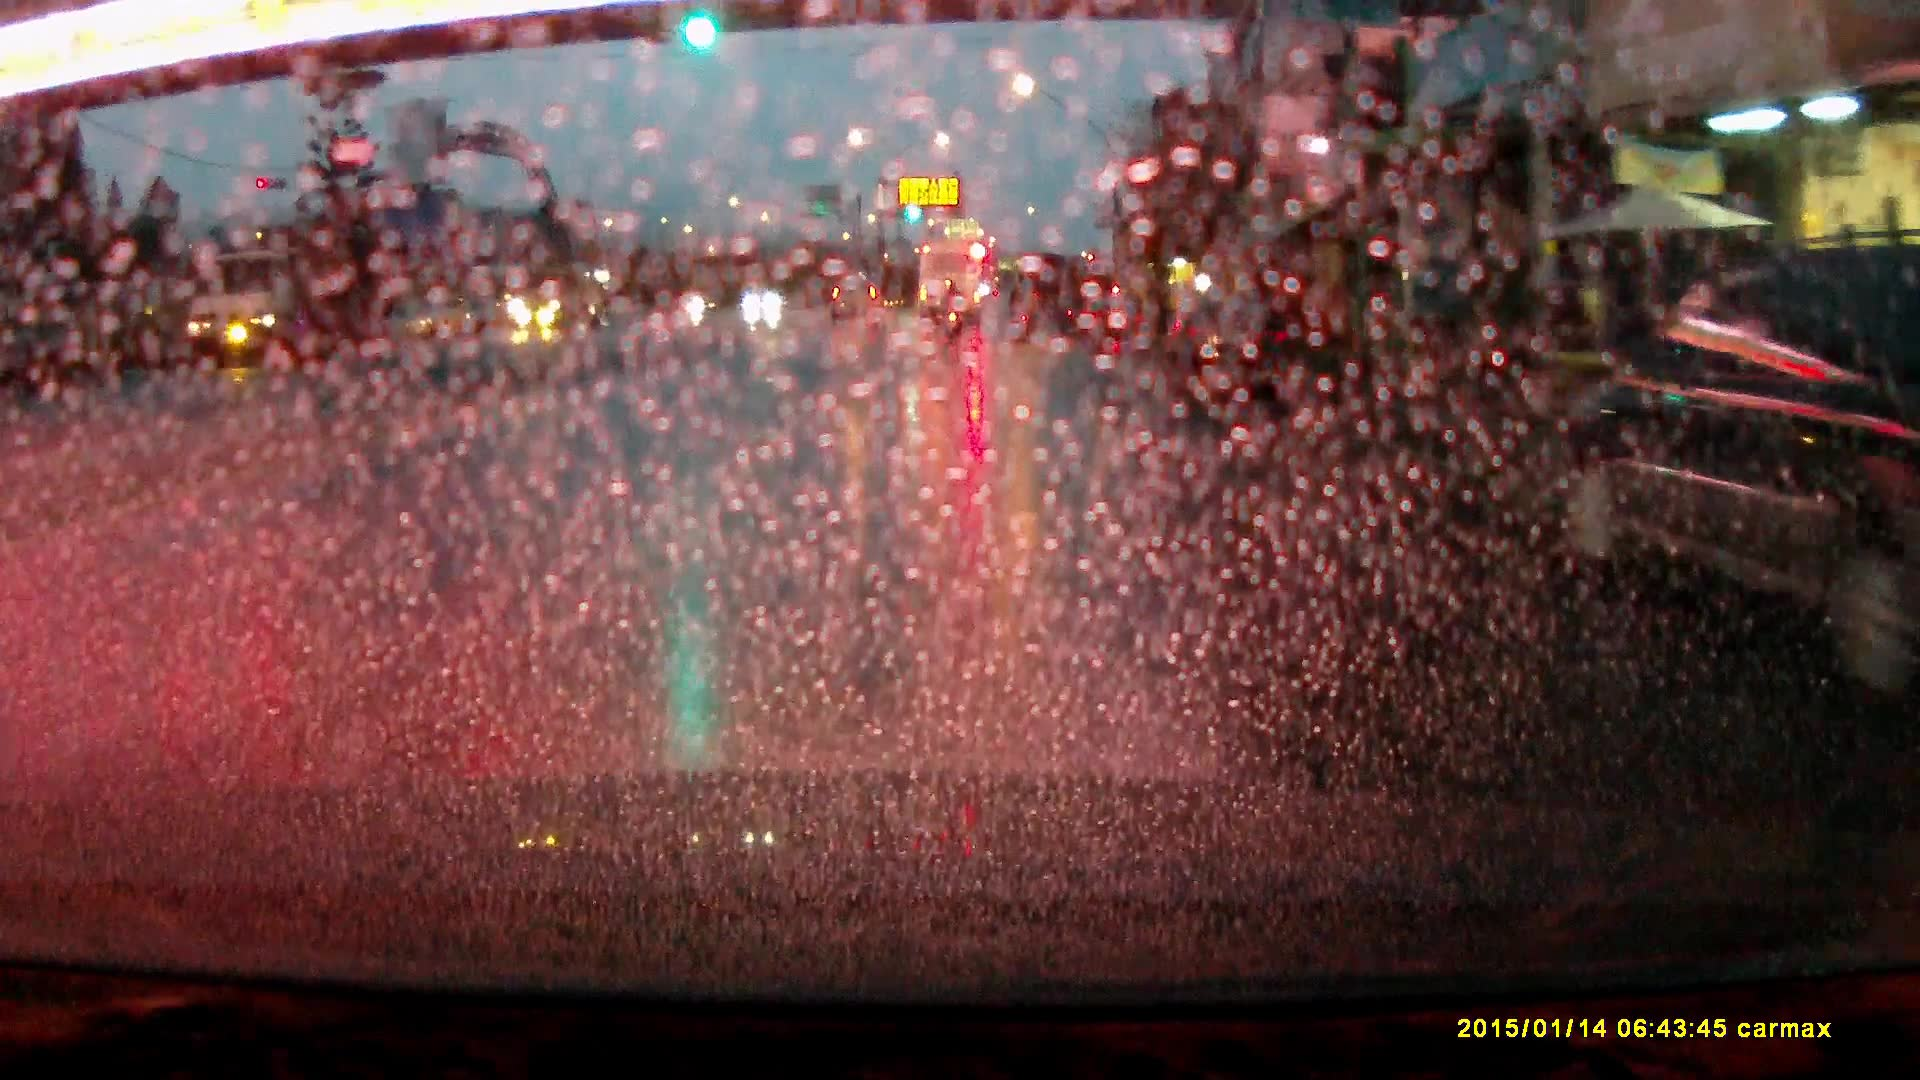rider: (943, 284, 968, 341)
vehicle: (1577, 287, 1920, 661), (179, 252, 375, 368), (1158, 309, 1289, 401), (512, 262, 604, 337), (918, 244, 984, 330), (1076, 299, 1145, 356), (828, 282, 885, 330), (746, 290, 786, 318)
